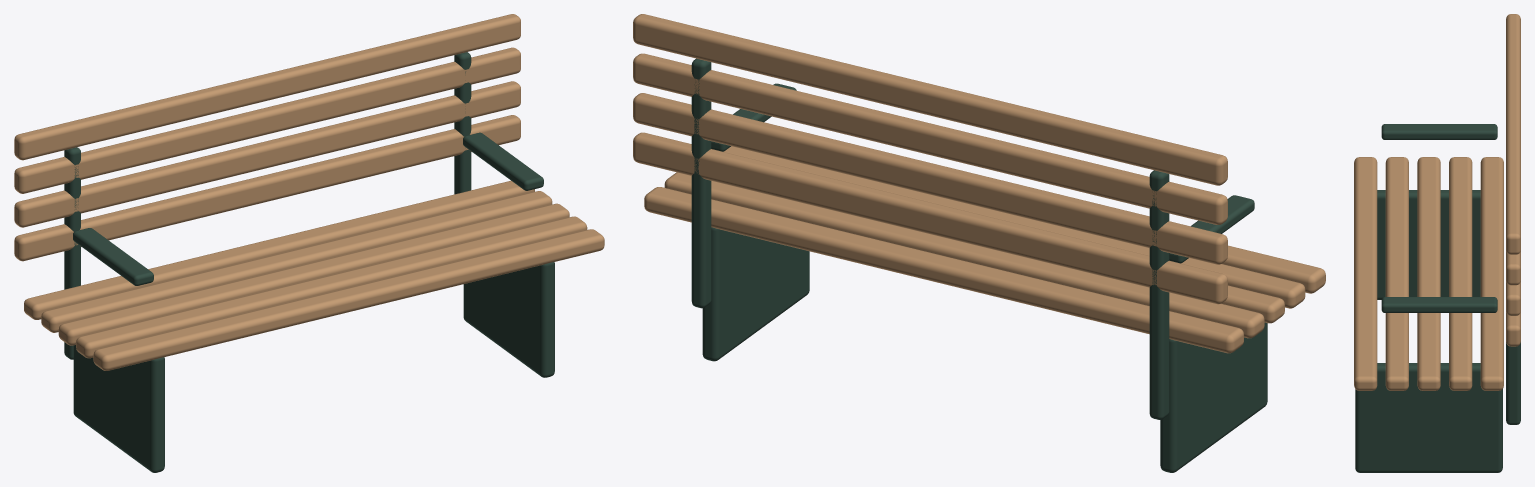
Rendered from garden-bench.glb.
3 renders of one model, left to right at view 1: azimuth 30°, elevation 25°; view 2: azimuth 150°, elevation 25°; view 3: azimuth 270°, elevation 25°, orthographic. The views are drawn at different scales.
Parts seen in each view (by area): view 1: garden-bench; view 2: garden-bench; view 3: garden-bench.
Part boxes in pixels (box(x1,y1,x2,y2)): garden-bench: box(14, 14, 604, 472); garden-bench: box(633, 14, 1325, 472); garden-bench: box(1354, 14, 1520, 472).
Bounding box in the file's own units: 2.5 × 1.37 × 0.79.
